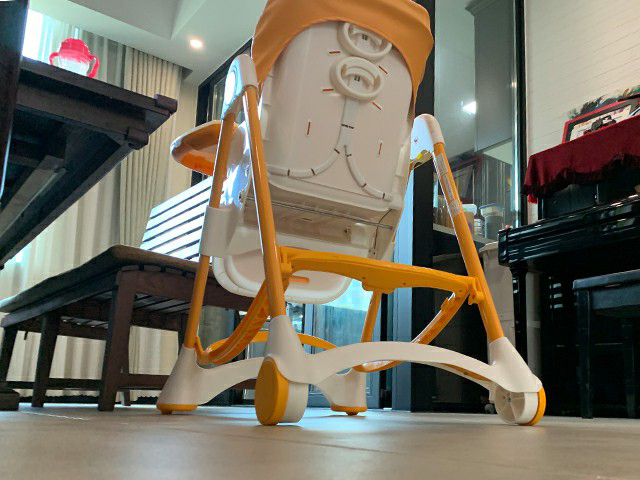curtain: (9, 14, 182, 403)
stool: (1, 176, 253, 411), (572, 267, 640, 419)
